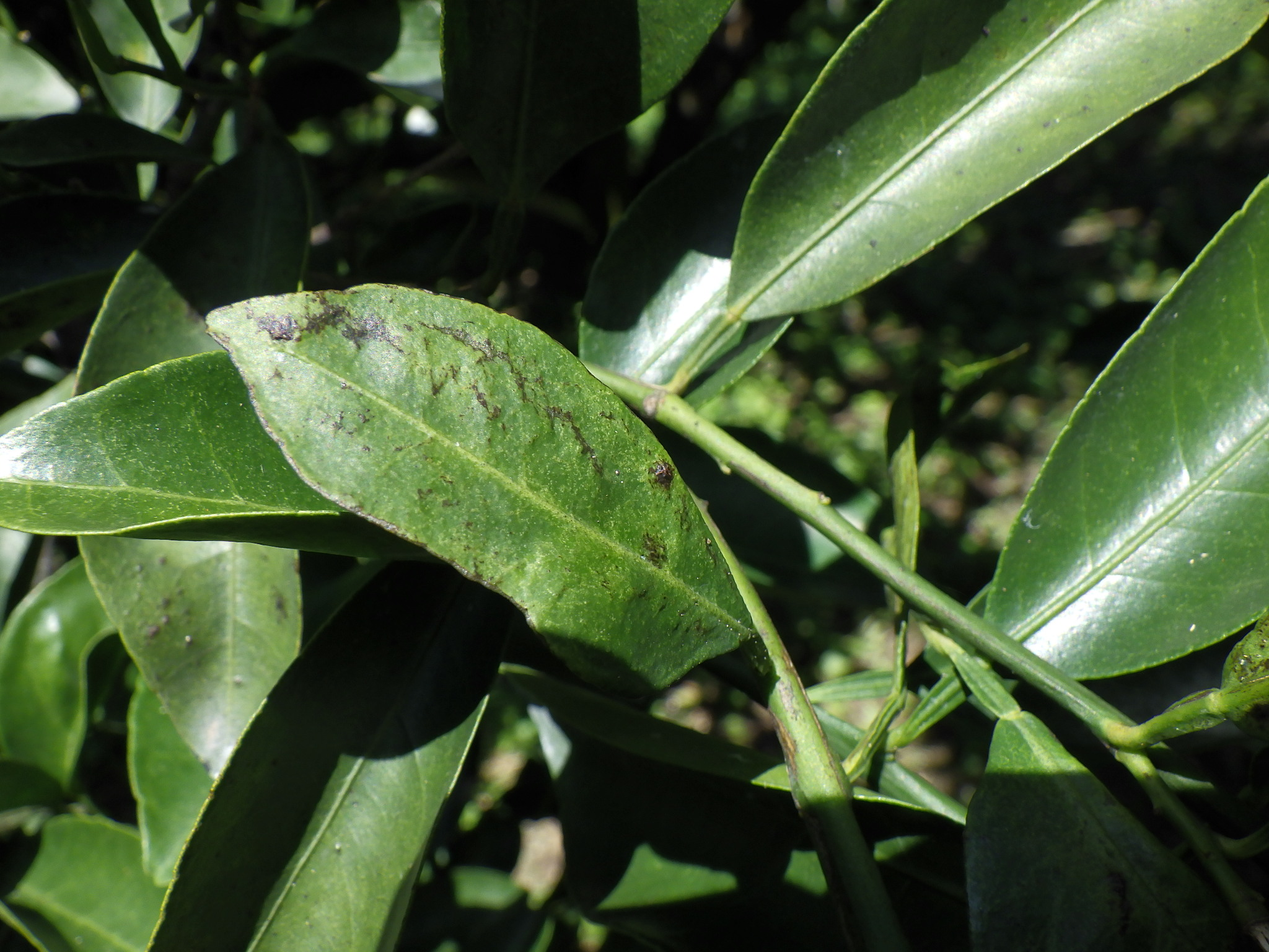Thrips_Damage: (247, 293, 676, 571)
